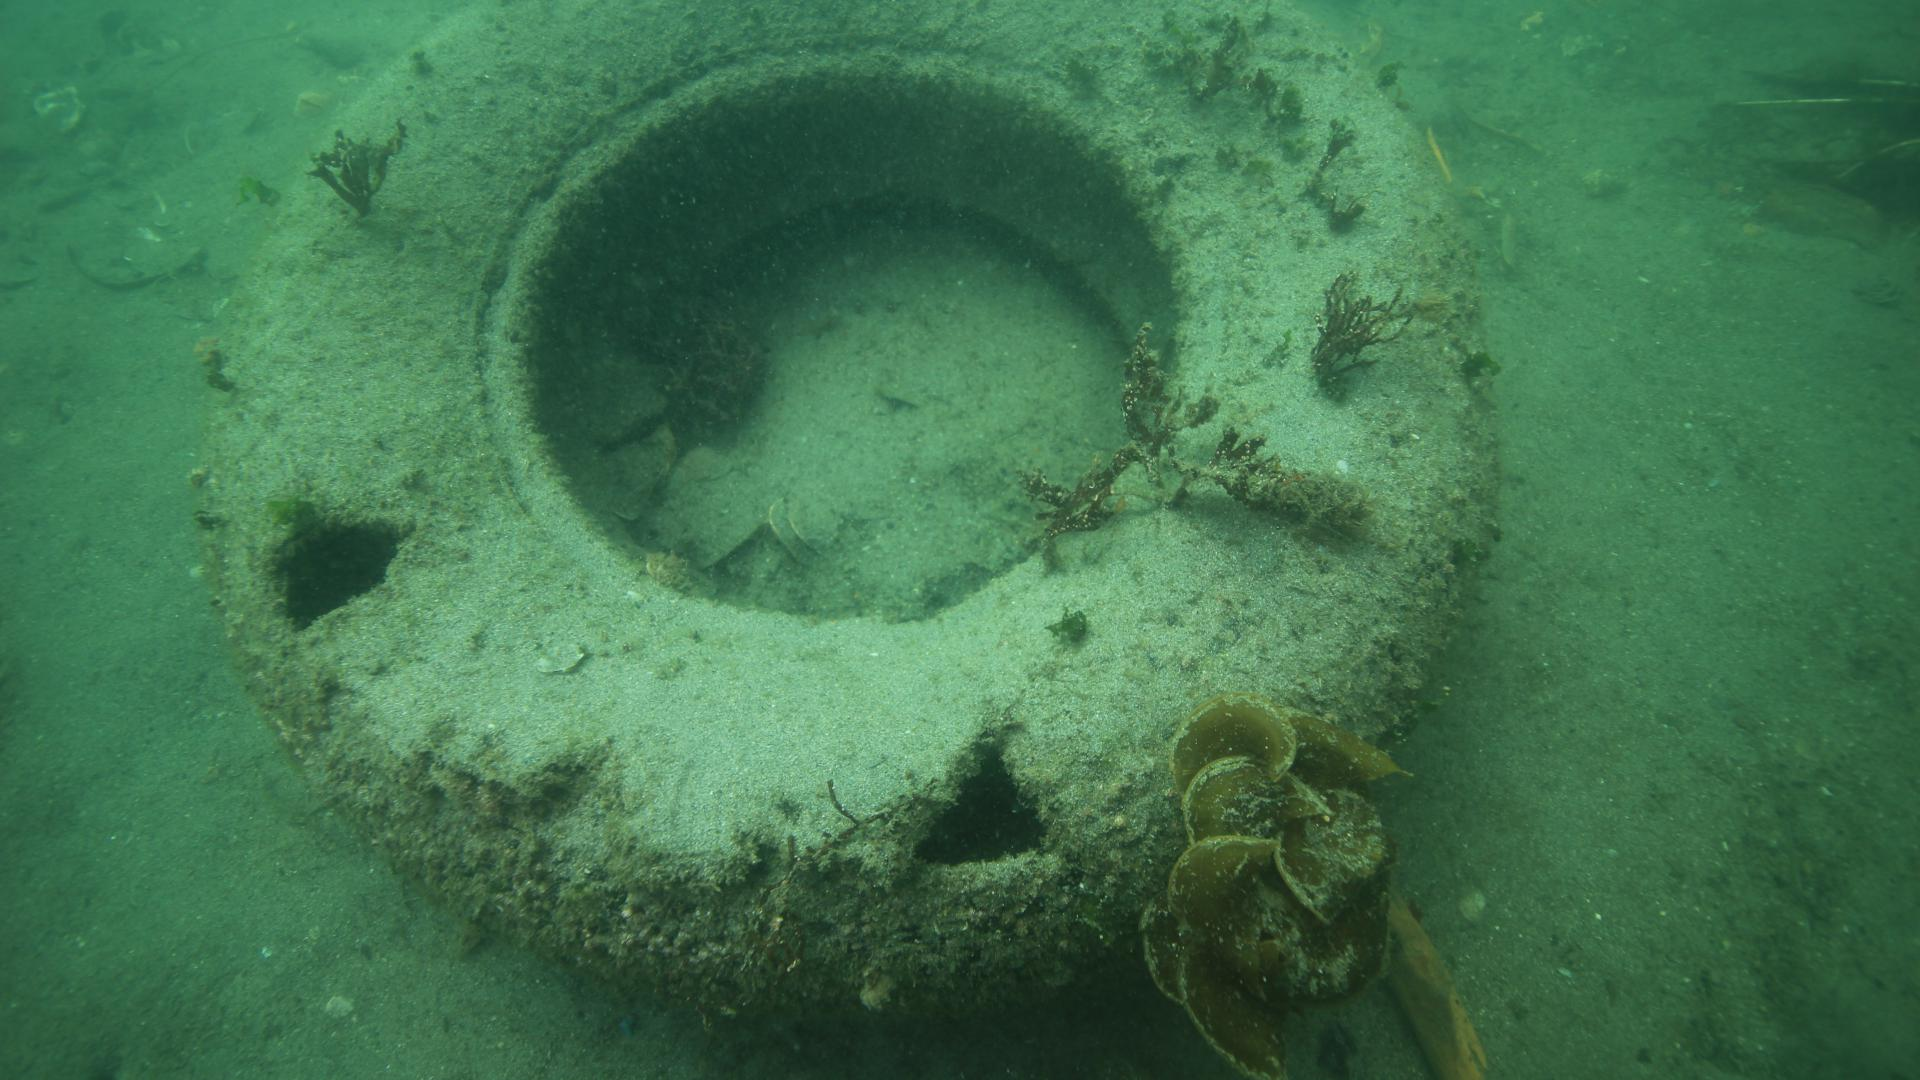tire: (214, 0, 1491, 1007)
